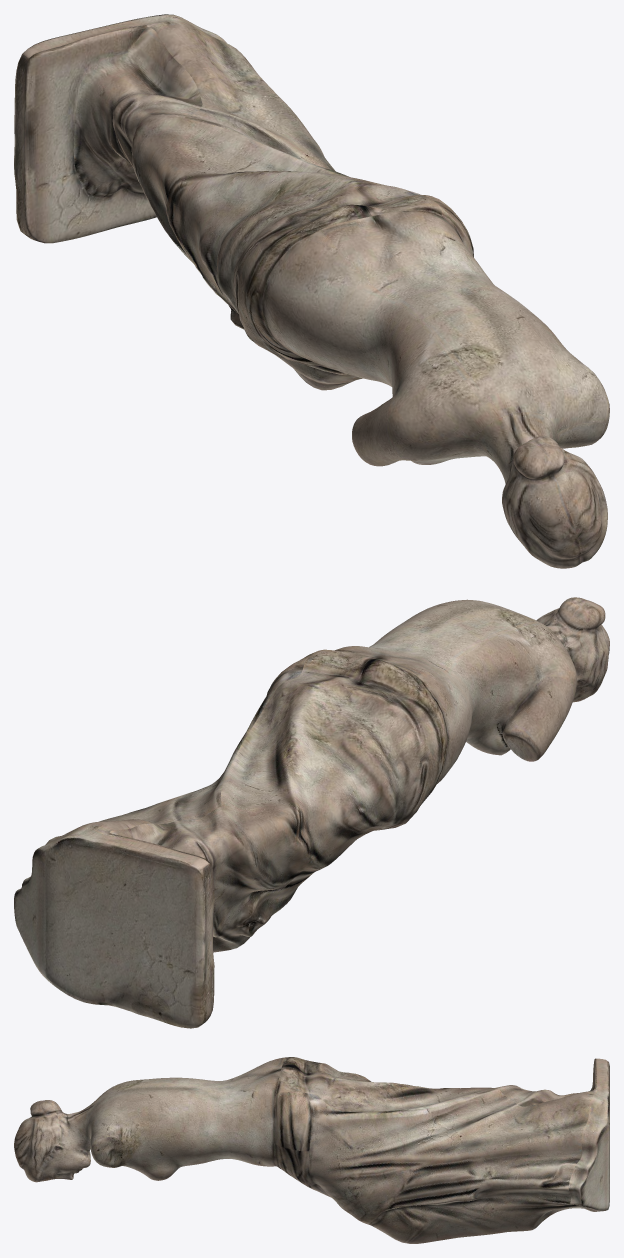
Rendered from milo.obj.
3 views of the same model, one above another, from view 1: azimuth 30°, elevation 25°; view 2: azimuth 150°, elevation 25°; view 3: azimuth 270°, elevation 25° (orthographic). The views are drawn at different scales.
Visible parts, largest first — view 1: mmGroup0; view 2: mmGroup0; view 3: mmGroup0.
Boxes of the visible parts, left/top/right/bottom form: mmGroup0: left=14, top=14, right=609, bottom=568; mmGroup0: left=14, top=597, right=609, bottom=1028; mmGroup0: left=14, top=1057, right=609, bottom=1243.
Bounding box in the file's own units: 62.49 × 60.01 × 203.
Materials: 1 (1 with a texture image).
